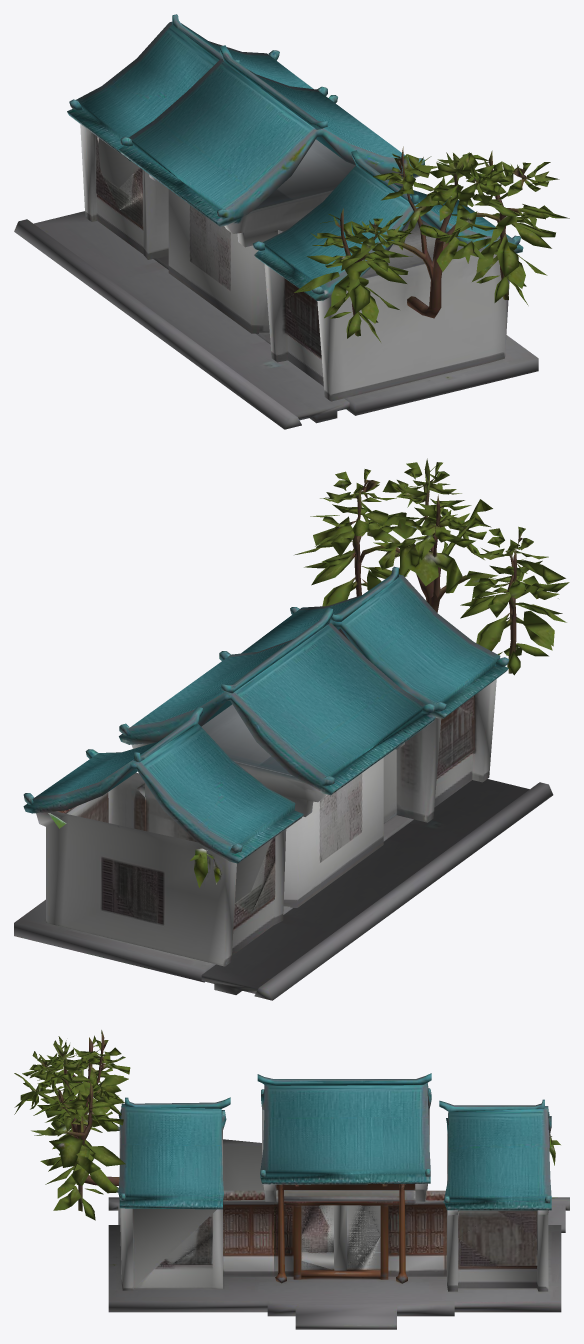
Rendered from qiushuang.glb.
3 renders of one model, top to bottom at view 1: azimuth 30°, elevation 25°; view 2: azimuth 150°, elevation 25°; view 3: azimuth 270°, elevation 25°, orthographic. The views are drawn at different scales.
Parts seen in each view (by area): view 1: tripo_node_c6e6de3b-48ed-4e58-b0e9-7137d215b1d7; view 2: tripo_node_c6e6de3b-48ed-4e58-b0e9-7137d215b1d7; view 3: tripo_node_c6e6de3b-48ed-4e58-b0e9-7137d215b1d7.
Part boxes in pixels (x1=…): tripo_node_c6e6de3b-48ed-4e58-b0e9-7137d215b1d7: x1=14, y1=14, x2=569, y2=429; tripo_node_c6e6de3b-48ed-4e58-b0e9-7137d215b1d7: x1=14, y1=458, x2=569, y2=1000; tripo_node_c6e6de3b-48ed-4e58-b0e9-7137d215b1d7: x1=14, y1=1030, x2=569, y2=1329.
Bounding box in the file's own units: 0.5488 × 0.459 × 0.998.
1 material, 1 textured.
